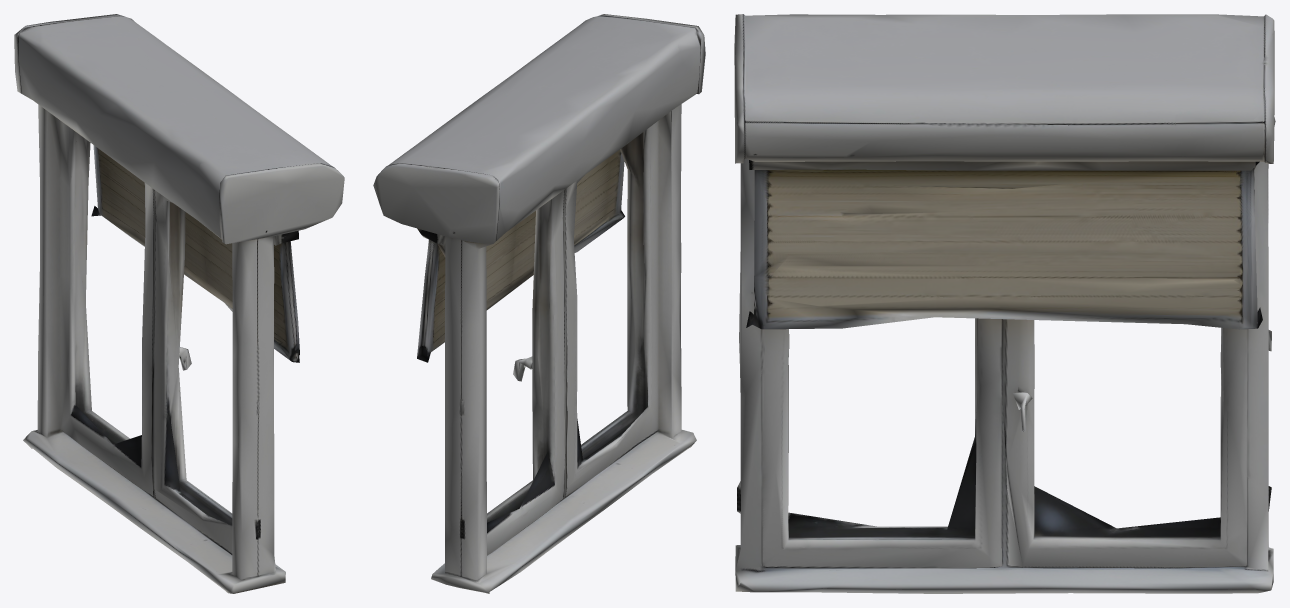
3 renders of one model, left to right at view 1: azimuth 30°, elevation 25°; view 2: azimuth 150°, elevation 25°; view 3: azimuth 270°, elevation 25°, orthographic. The views are drawn at different scales.
Visible parts, largest first — view 1: tripo_node_98bf59e1-2cf2-46f3-87b9-b1740df3e144; view 2: tripo_node_98bf59e1-2cf2-46f3-87b9-b1740df3e144; view 3: tripo_node_98bf59e1-2cf2-46f3-87b9-b1740df3e144.
Boxes of the visible parts, bbox=[...] form: tripo_node_98bf59e1-2cf2-46f3-87b9-b1740df3e144: bbox=[14, 14, 344, 593]; tripo_node_98bf59e1-2cf2-46f3-87b9-b1740df3e144: bbox=[373, 14, 705, 593]; tripo_node_98bf59e1-2cf2-46f3-87b9-b1740df3e144: bbox=[734, 14, 1275, 593].
Bounding box in the file's own units: 0.3099 × 1 × 0.9007.
Materials: 1 (1 with a texture image).
